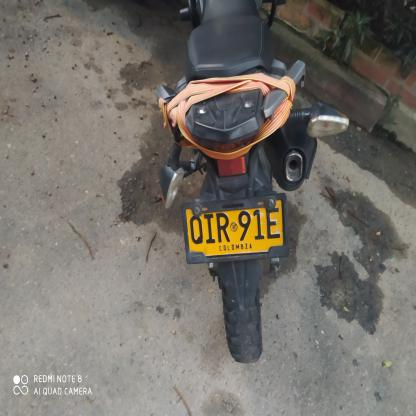placa: (177, 189, 293, 268)
